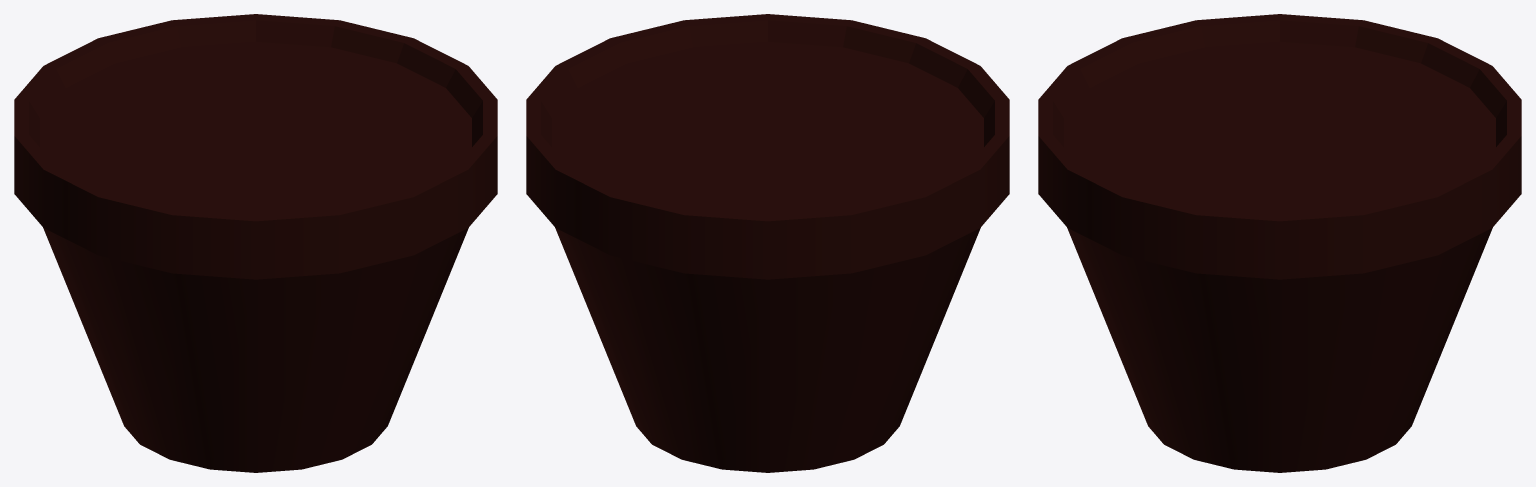
File: cserep.FBX
3 views of the same model, side by side, from view 1: azimuth 30°, elevation 25°; view 2: azimuth 150°, elevation 25°; view 3: azimuth 270°, elevation 25° (orthographic).
Parts seen in each view (by area): view 1: Cylinder001; view 2: Cylinder001; view 3: Cylinder001.
Part boxes in pixels (x1,y1,x2,y2): Cylinder001: (14, 14, 497, 472); Cylinder001: (526, 14, 1009, 472); Cylinder001: (1038, 14, 1521, 472).
Bounding box in the file's own units: 43.81 × 29.42 × 43.14.
